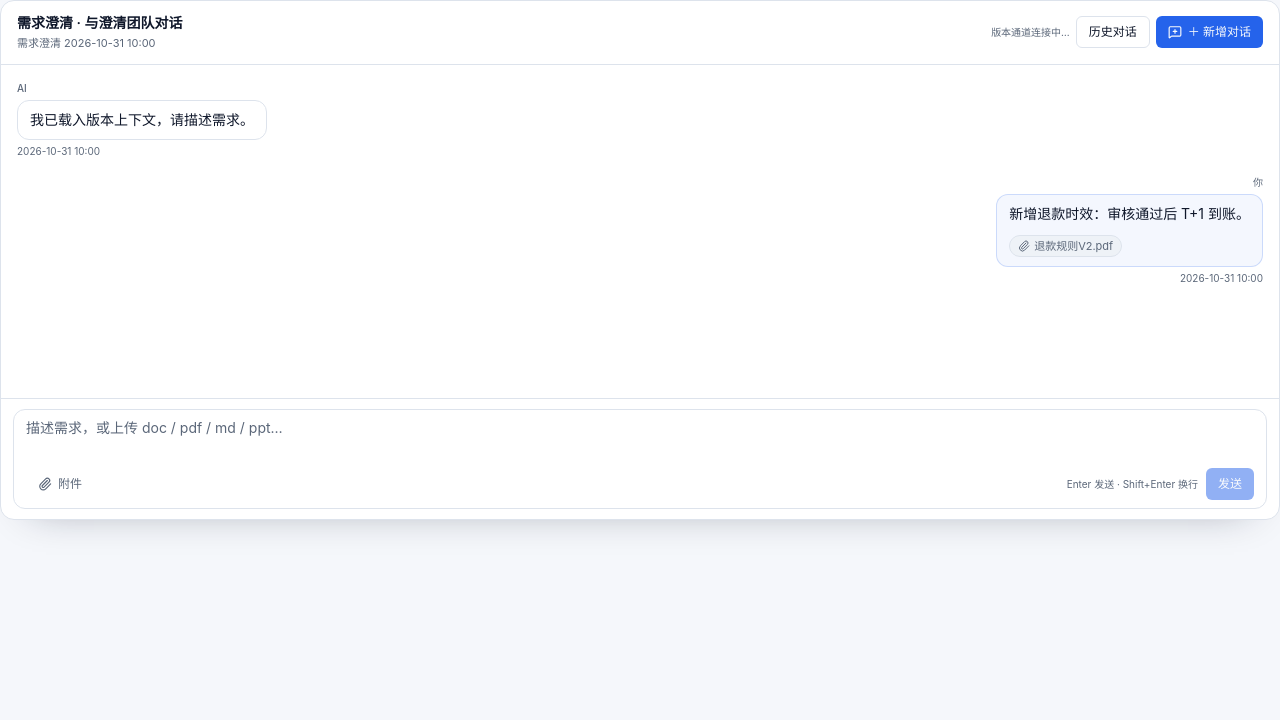
Test: ChatPanel › sends a message, posts parts and appends the returned message
Expected: the text "我已载入版本上下文，请描述需求。" is shown, [30, 108, 254, 131]
In the text box with test id "composer-textarea": (640, 438) [26, 418, 1254, 458], type "新增退款时效需求"
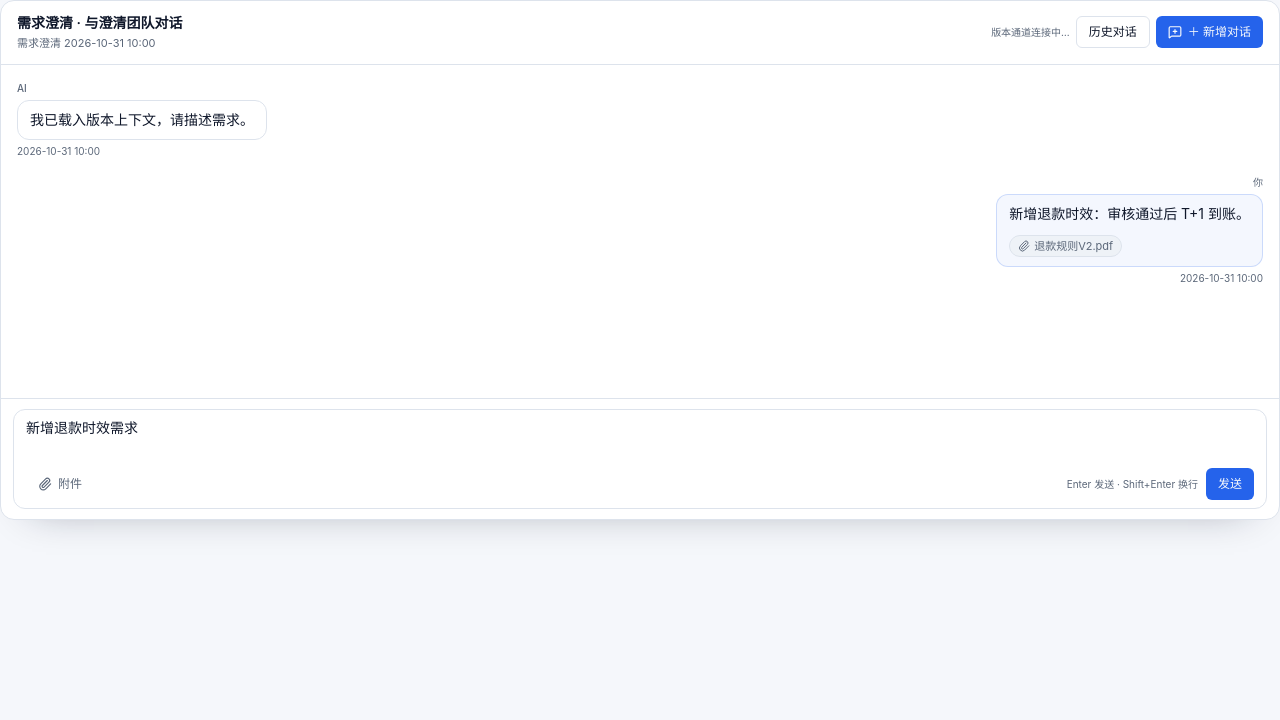
Press Enter in the text box with test id "composer-textarea", box [26, 418, 1254, 458]
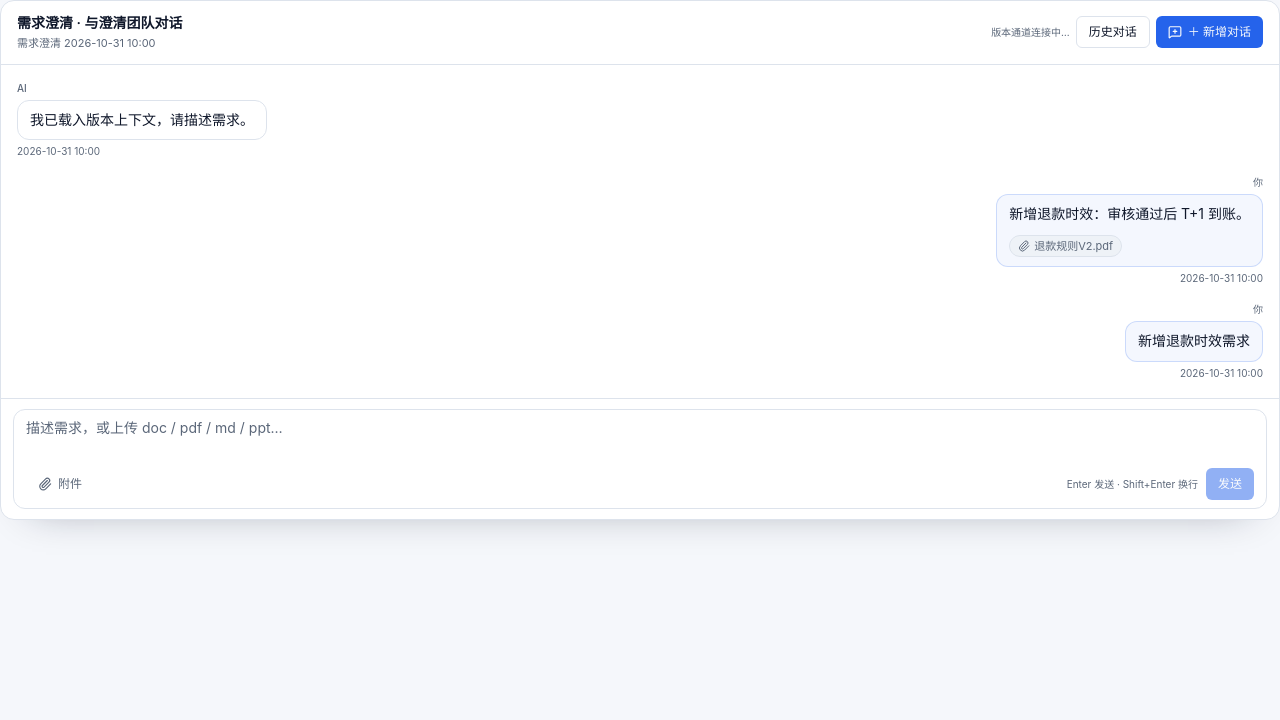
Result: the text "新增退款时效需求" is shown at [1138, 330, 1250, 353]
